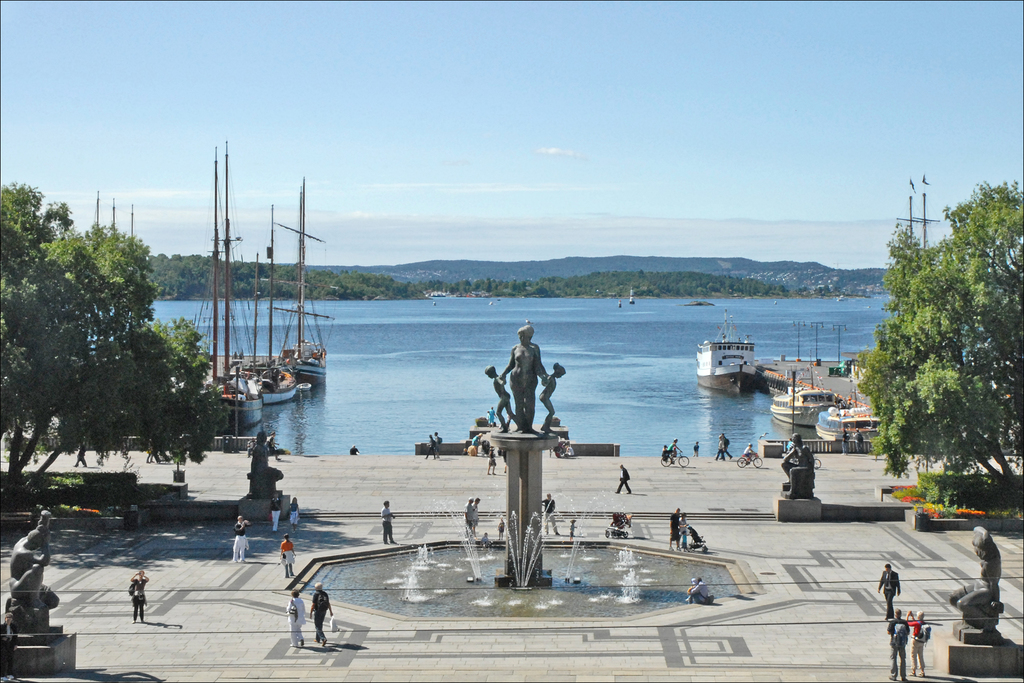Tree: (0, 175, 268, 534), (115, 239, 944, 317), (860, 170, 1011, 530)
